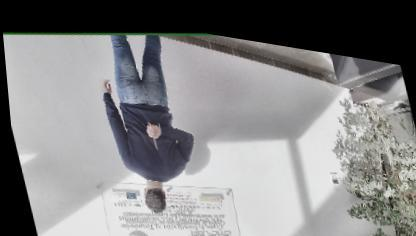knife: (141, 112, 158, 146)
